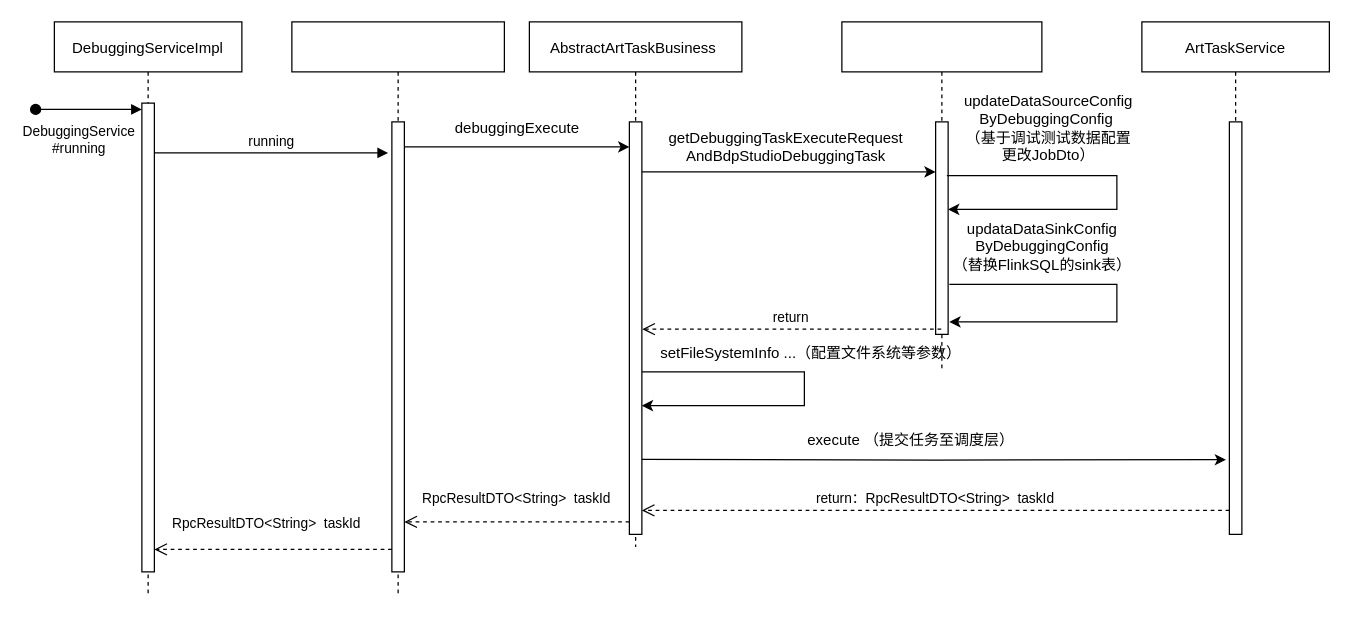
The diagram is 1351 pixels wide and 619 high, and some of its shapes have lost their labels. The shapes that lost their labels are listed below. From the top down, each one's box as (x1, y1, x2, y2) in pixels, then its label:
(841, 21, 1042, 372): StreamArtTaskBusiness
(291, 21, 504, 597): DebuggingTaskBusiness
